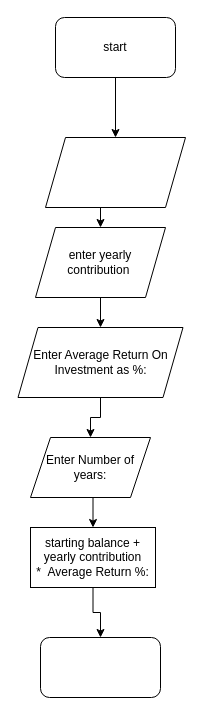
This 203x715 diagram has some shape labels left out. The centre of each missing label's shape, as x and y in pixels:
"end" belongs at (100,667).
"enter starting balance" belongs at (115,172).
